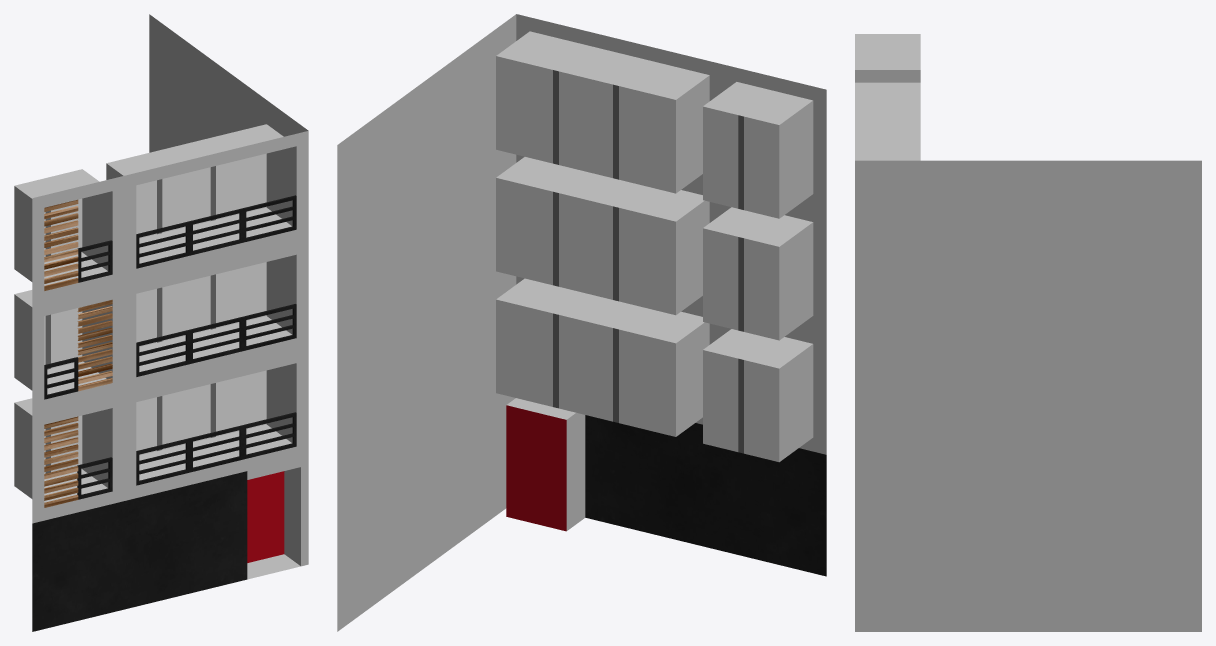
Rendered from Modern Apartment Small.fbx.
3 views of the same model, side by side, from view 1: azimuth 30°, elevation 25°; view 2: azimuth 150°, elevation 25°; view 3: azimuth 270°, elevation 25° (orthographic). The views are drawn at different scales.
Visible parts, largest first — view 1: Modern_Apartment, Modern_Apartment_Railing, Modern_Apartment_Wood; view 2: Modern_Apartment; view 3: Modern_Apartment.
Part boxes in pixels (left/top/right/bottom): Modern_Apartment: left=14, top=14, right=308, bottom=631; Modern_Apartment_Railing: left=44, top=195, right=296, bottom=499; Modern_Apartment_Wood: left=44, top=199, right=112, bottom=507; Modern_Apartment: left=337, top=14, right=826, bottom=631; Modern_Apartment: left=855, top=34, right=1201, bottom=631.
Bounding box in the file's own units: 1500 × 2250 × 1500.
